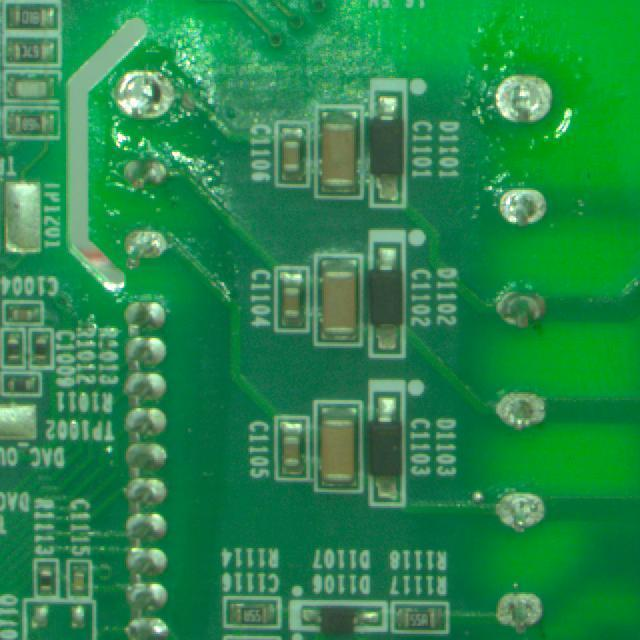Insufficient solder: (487, 66, 565, 141), (117, 224, 195, 280), (113, 65, 186, 120), (491, 382, 562, 438), (489, 587, 562, 633), (488, 189, 549, 238), (492, 496, 552, 544)
